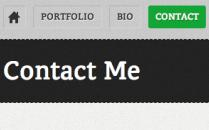button: (33, 5, 100, 29), (147, 5, 206, 28), (108, 6, 141, 30)
